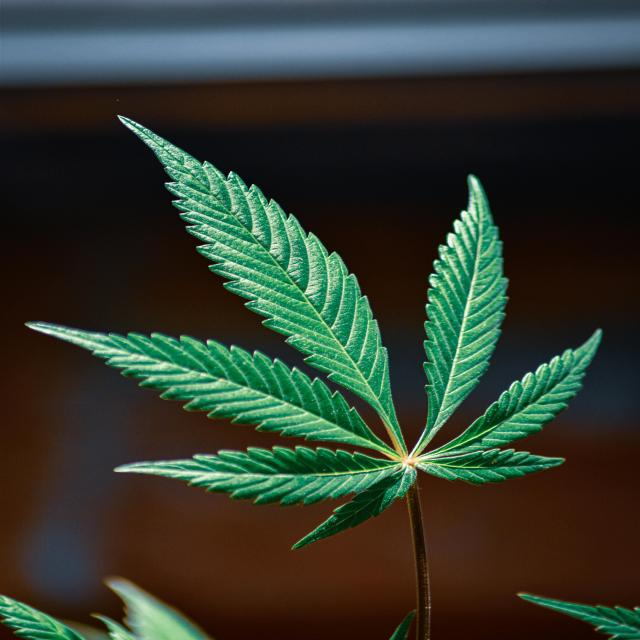cannabis: (26, 116, 604, 640)
